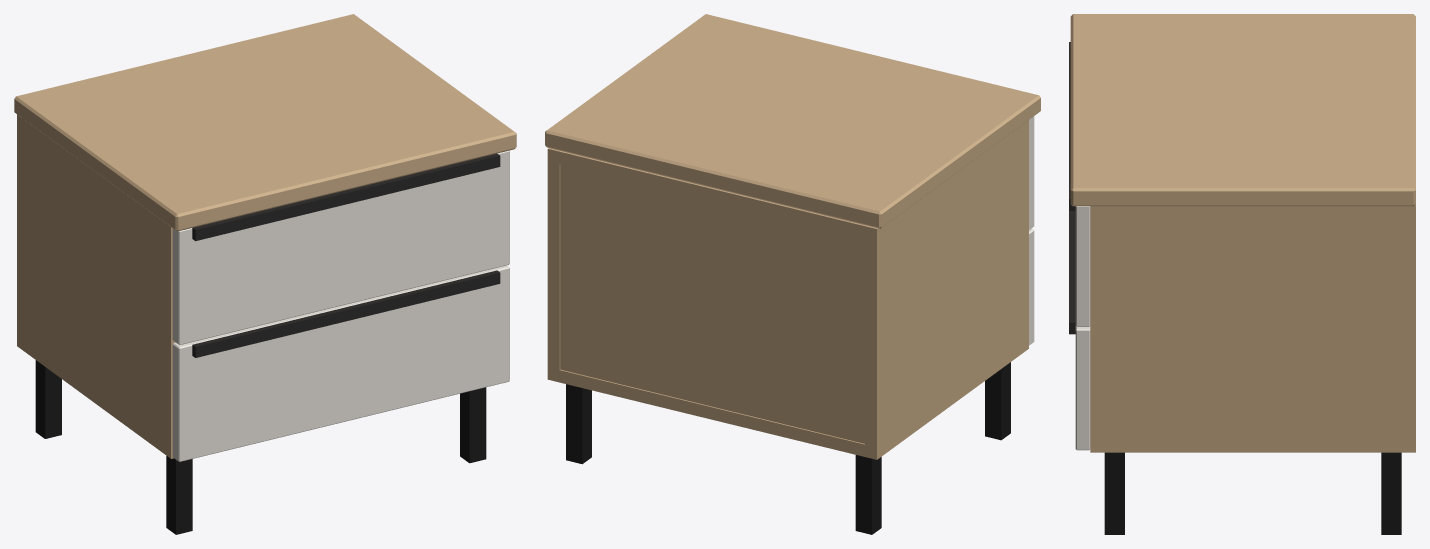
The model's file is 44_szafka_nocna_50.glb.
3 views of the same model, side by side, from view 1: azimuth 30°, elevation 25°; view 2: azimuth 150°, elevation 25°; view 3: azimuth 270°, elevation 25° (orthographic). The views are drawn at different scales.
Visible parts, largest first — view 1: Wierzch, Korpus, Front_szuflada_2, Front_szuflada_1, Uchwyty, Nogi; view 2: Korpus, Wierzch, Nogi, Front_szuflada_2, Front_szuflada_1; view 3: Korpus, Wierzch, Nogi, Front_szuflada_2, Front_szuflada_1, Uchwyty.
Part boxes in pixels (bbox=[...]): Wierzch: bbox=[14, 14, 516, 231]; Korpus: bbox=[17, 114, 175, 458]; Front_szuflada_2: bbox=[172, 265, 509, 461]; Front_szuflada_1: bbox=[172, 150, 509, 344]; Uchwyty: bbox=[192, 153, 500, 357]; Nogi: bbox=[35, 360, 486, 534]; Korpus: bbox=[547, 120, 1028, 459]; Wierzch: bbox=[545, 14, 1040, 228]; Nogi: bbox=[566, 362, 1010, 534]; Front_szuflada_2: bbox=[1029, 228, 1034, 345]; Front_szuflada_1: bbox=[1029, 116, 1034, 229]; Korpus: bbox=[1090, 204, 1415, 452]; Wierzch: bbox=[1070, 14, 1415, 206]; Nogi: bbox=[1104, 452, 1401, 534]; Front_szuflada_2: bbox=[1075, 326, 1090, 450]; Front_szuflada_1: bbox=[1075, 206, 1090, 326]; Uchwyty: bbox=[1069, 42, 1075, 334].
Bounding box in the file's own units: 0.512 × 0.48 × 0.426.
